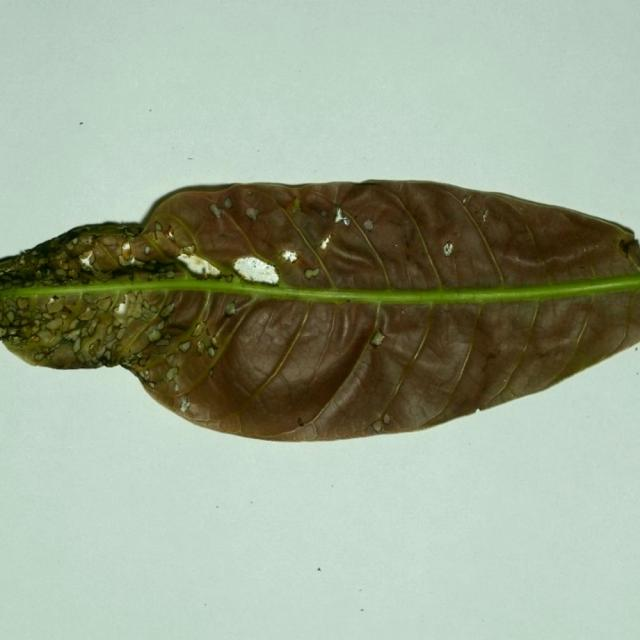Anthracnose: (210, 193, 368, 286), (154, 305, 225, 384), (75, 228, 164, 274), (51, 296, 127, 341), (168, 240, 245, 283), (4, 299, 47, 347), (29, 261, 58, 281), (68, 234, 96, 254), (45, 297, 62, 312), (209, 203, 224, 219), (192, 323, 205, 337), (160, 306, 173, 319), (16, 297, 29, 310), (64, 267, 77, 279), (66, 242, 75, 251)
Mango: (0, 181, 639, 446)
